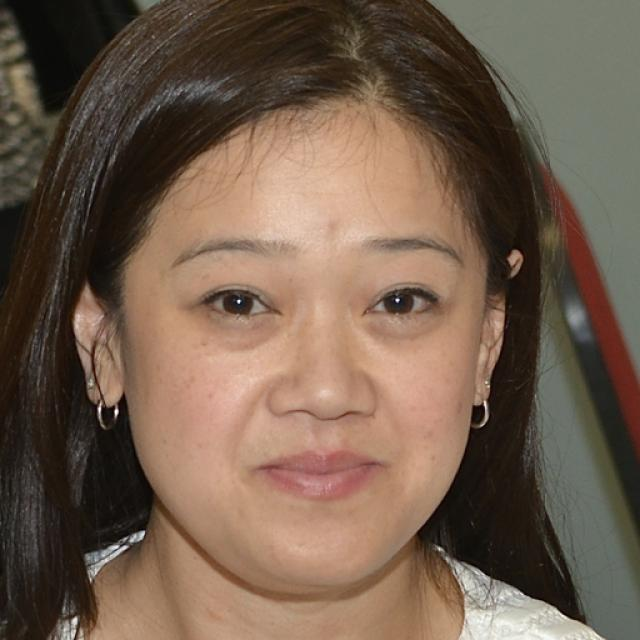Acne: (311, 213, 343, 244)
Dark Circle: (201, 311, 280, 349), (360, 311, 439, 341)
